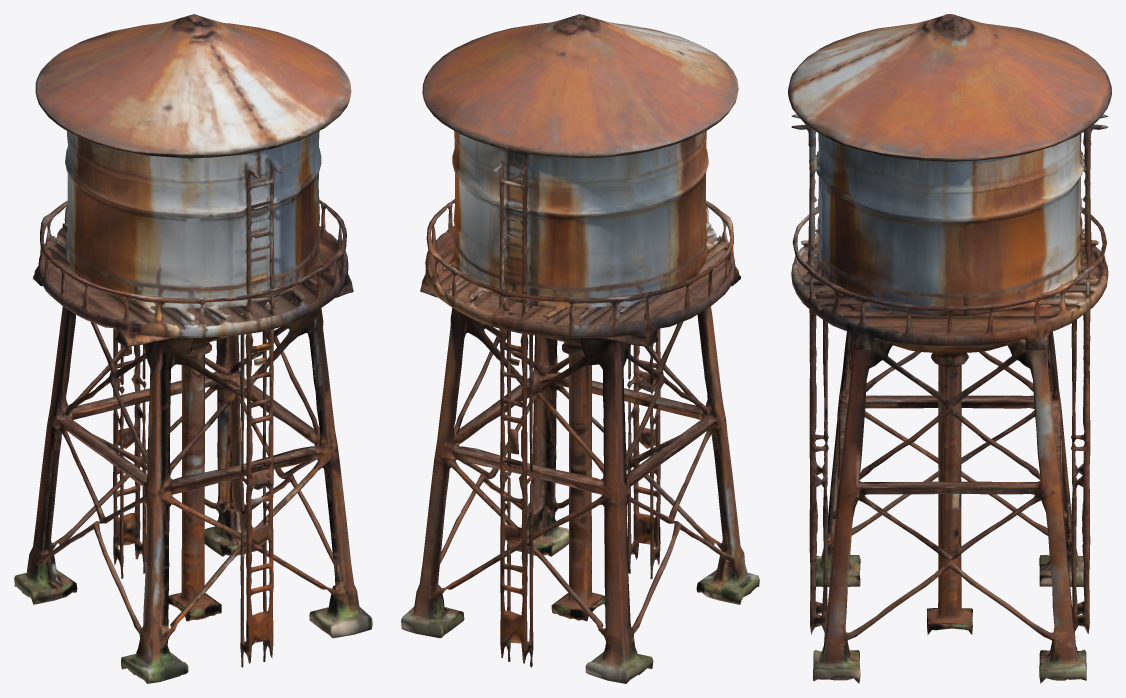
File: rusty_water.glb
The picture shows the model from 3 angles, left to right: view 1: azimuth 30°, elevation 25°; view 2: azimuth 150°, elevation 25°; view 3: azimuth 270°, elevation 25°; orthographic projection. The views are drawn at different scales.
Parts seen in each view (by area): view 1: Mesh_0; view 2: Mesh_0; view 3: Mesh_0.
Part boxes in pixels (x1,y1,x2,y2): Mesh_0: [14, 14, 372, 683]; Mesh_0: [401, 14, 759, 683]; Mesh_0: [788, 14, 1111, 683].
Size of the model in its own units: 0.965 by 2.05 by 0.964.
Materials: 1 (1 with a texture image).
